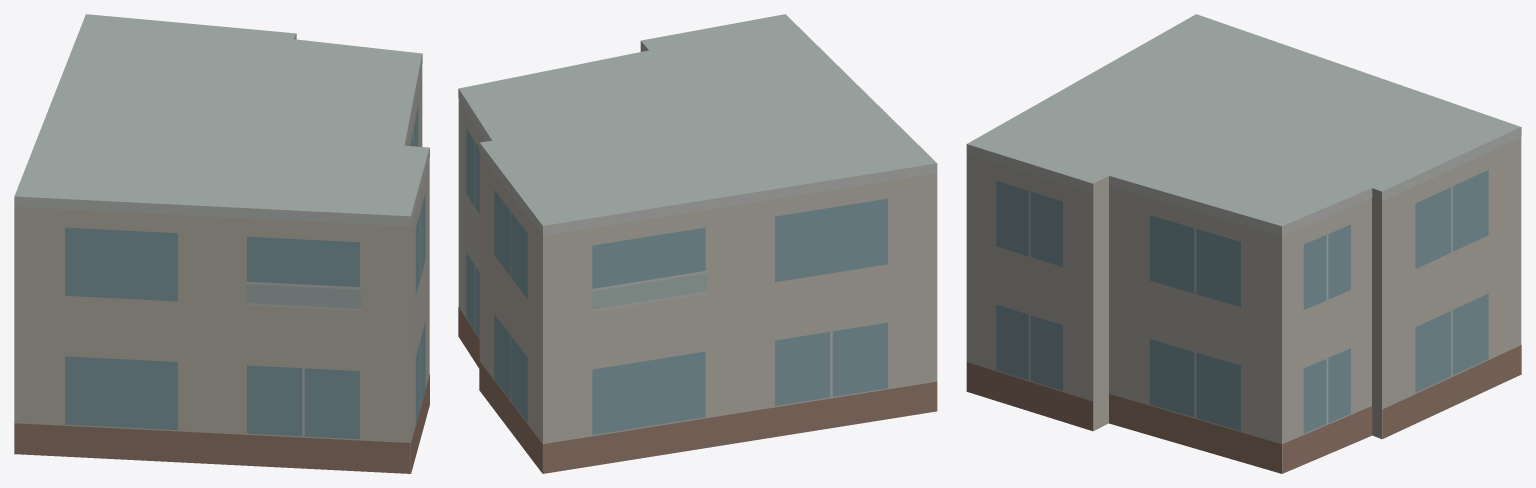
Rendered from survey-upis-32605859.glb.
3 renders of one model, left to right at view 1: azimuth 30°, elevation 25°; view 2: azimuth 150°, elevation 25°; view 3: azimuth 270°, elevation 25°, orthographic. The views are drawn at different scales.
Visible parts, largest first — view 1: survey-upis-32605859.tmp; view 2: survey-upis-32605859.tmp; view 3: survey-upis-32605859.tmp.
Part boxes in pixels (x1,y1,x2,y2): survey-upis-32605859.tmp: [14, 14, 429, 473]; survey-upis-32605859.tmp: [458, 14, 937, 473]; survey-upis-32605859.tmp: [966, 14, 1521, 473].
Bounding box in the file's own units: 11.23 × 6.1 × 12.4.
